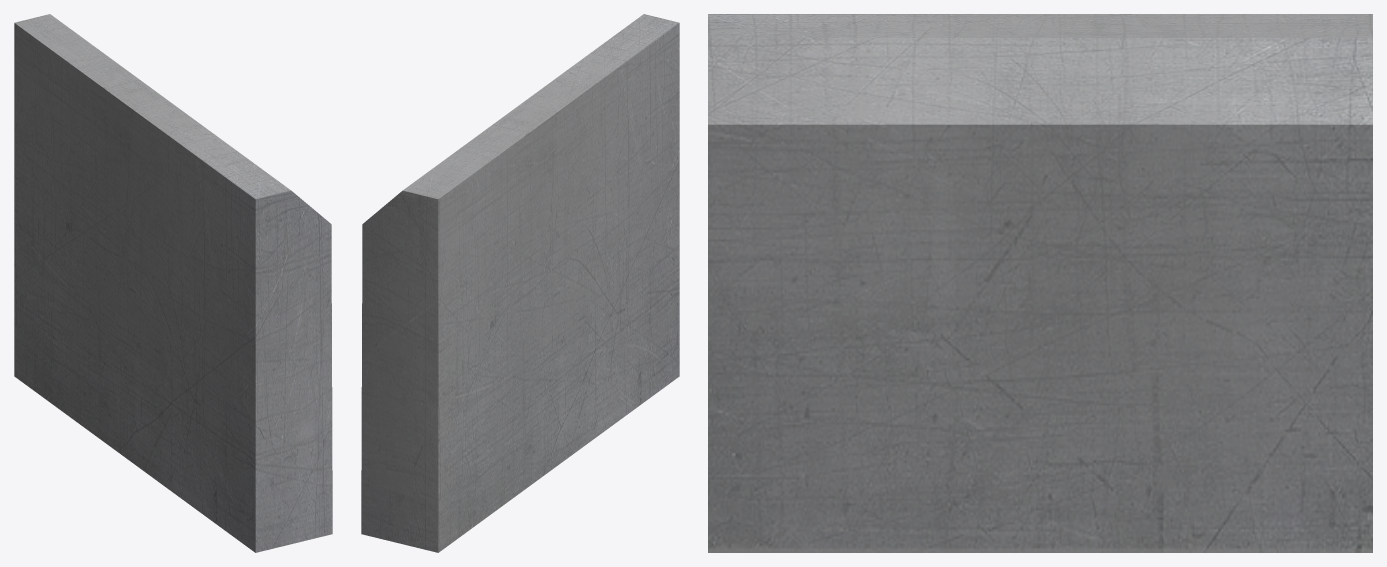
File: panel.gltf
The picture shows the model from 3 angles, left to right: view 1: azimuth 30°, elevation 25°; view 2: azimuth 150°, elevation 25°; view 3: azimuth 270°, elevation 25°; orthographic projection. The views are drawn at different scales.
Visible parts, largest first — view 1: Cube; view 2: Cube; view 3: Cube.
Boxes of the visible parts, left/top/right/bottom form: Cube: left=14, top=14, right=332, bottom=552; Cube: left=361, top=14, right=679, bottom=552; Cube: left=708, top=14, right=1372, bottom=552.
Size of the model in its own units: 0.4569 by 2 by 2.47.
Materials: 1 (1 with a texture image).
